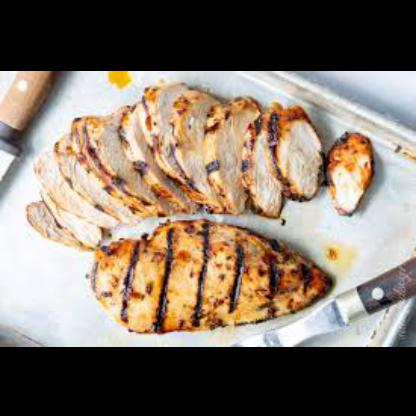grilled chicken breast: (26, 81, 376, 251), (92, 220, 330, 334)
